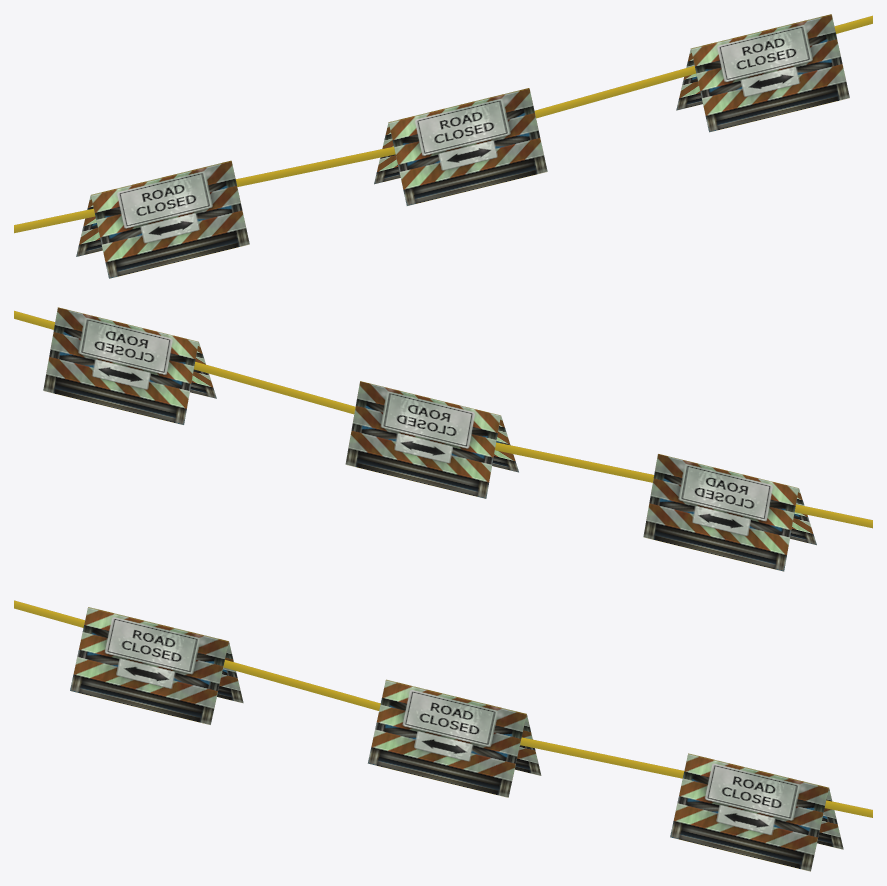
Rendered from roadclosed.glb.
3 renders of one model, top to bottom at view 1: azimuth 30°, elevation 25°; view 2: azimuth 150°, elevation 25°; view 3: azimuth 330°, elevation 25°, orthographic.
Parts seen in each view (by area): view 1: roadclosed; view 2: roadclosed; view 3: roadclosed.
Boxes of the visible parts, x1,y1,x2,y2 form: roadclosed: (14,14,872,278); roadclosed: (14,307,872,571); roadclosed: (14,600,872,871).
Bounding box in the file's own units: 2200 × 178 × 146.
Materials: 1 (1 with a texture image).
